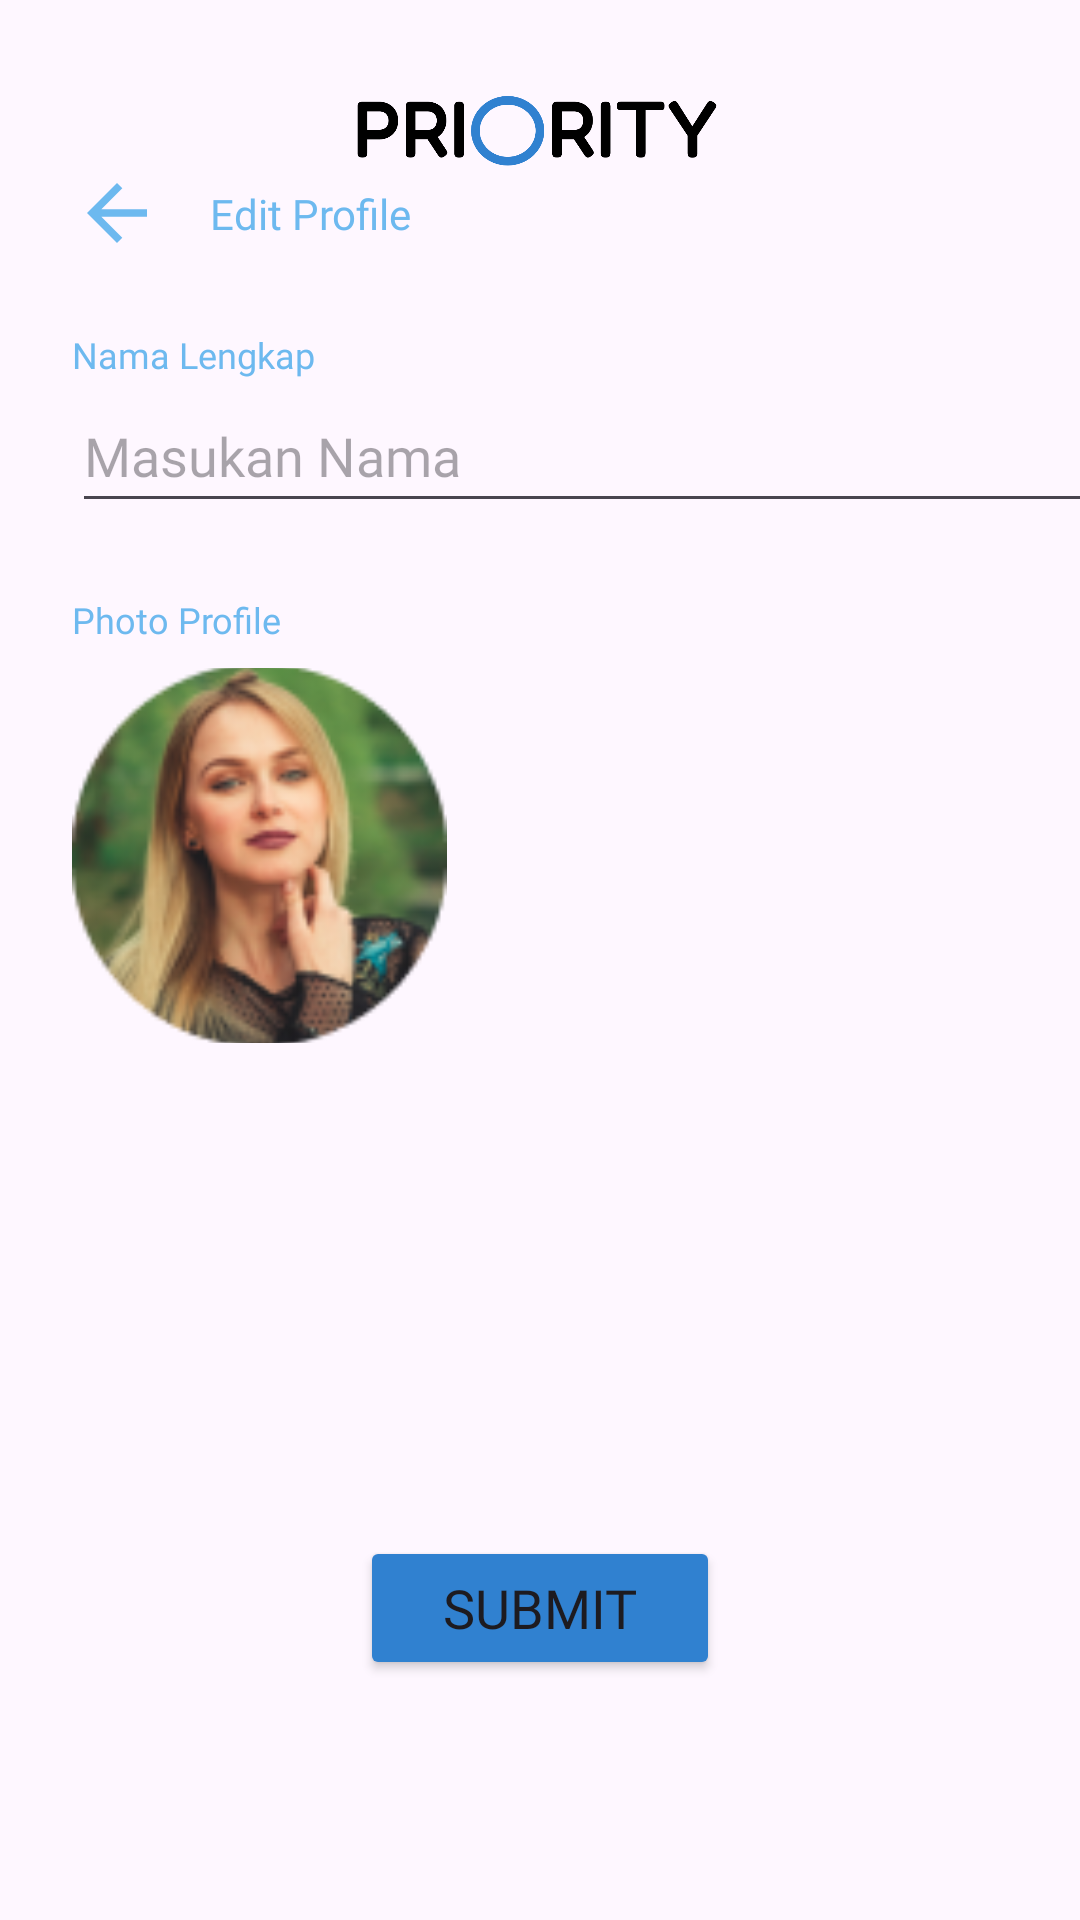

Locate icon controls on the screen. Image size 1080×1920, boxes as (x1, y1, x2, y2).
arrow back: (87, 183, 147, 243)
